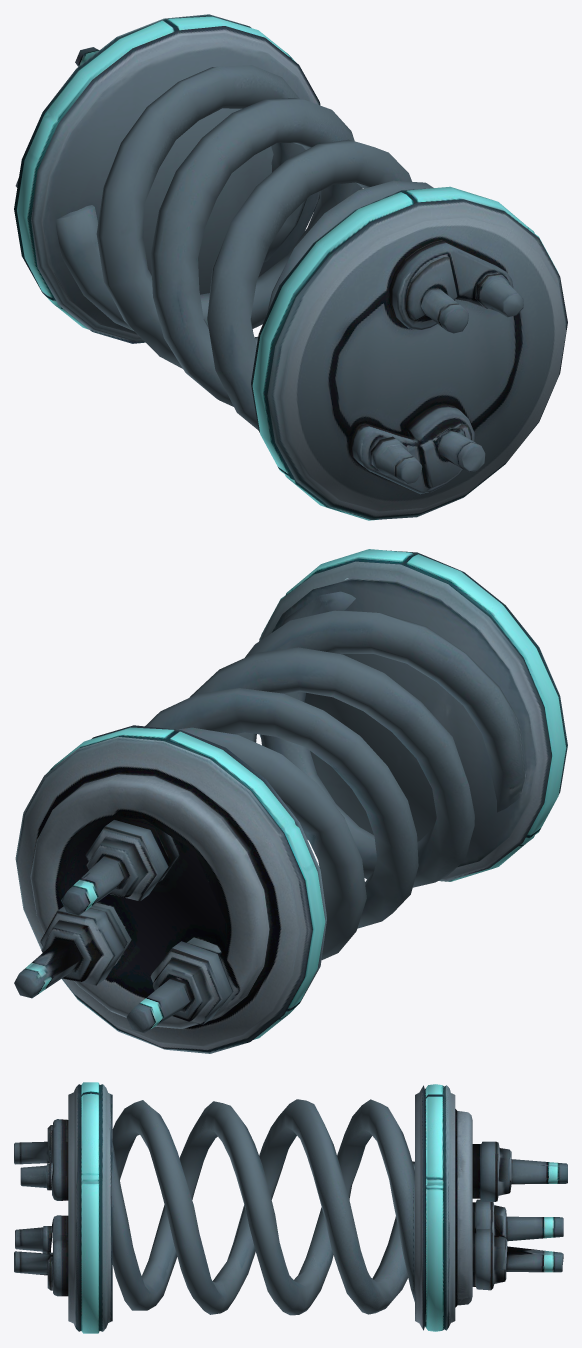
Rendered from retardation_helix_conduit.glb.
3 views of the same model, one above another, from view 1: azimuth 30°, elevation 25°; view 2: azimuth 150°, elevation 25°; view 3: azimuth 270°, elevation 25° (orthographic). The views are drawn at different scales.
Parts seen in each view (by area): view 1: retardation helix conduit; view 2: retardation helix conduit; view 3: retardation helix conduit.
Part boxes in pixels (x1,y1,x2,y2): retardation helix conduit: [14, 14, 567, 520]; retardation helix conduit: [14, 549, 567, 1053]; retardation helix conduit: [14, 1082, 567, 1333].
Bounding box in the file's own units: 0.0778 × 0.0785 × 0.1707.
Materials: 1 (1 with a texture image).
